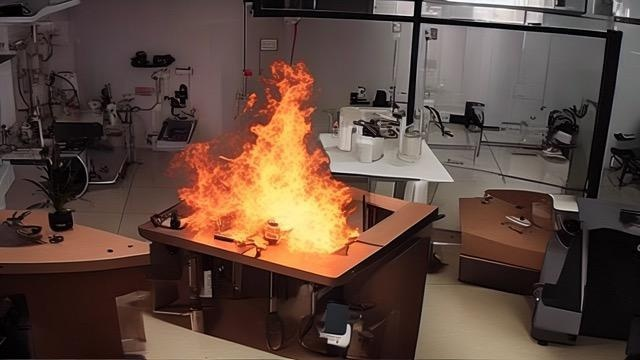fire: (173, 55, 367, 261)
